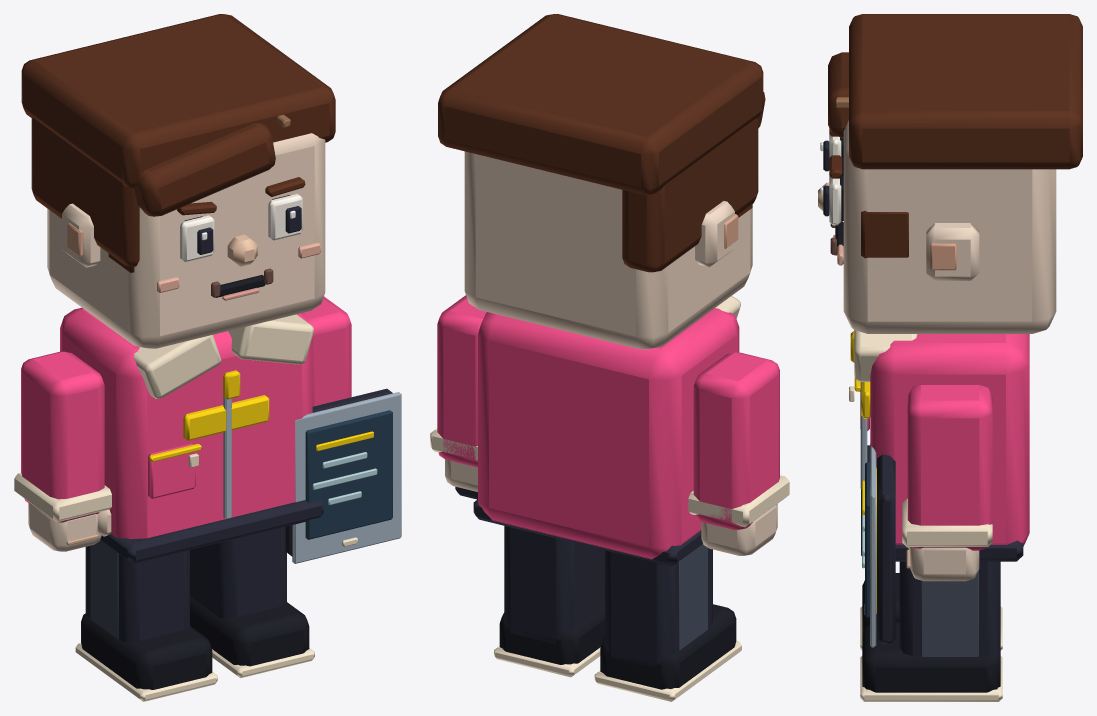
The model's file is recruiter.glb.
3 views of the same model, side by side, from view 1: azimuth 30°, elevation 25°; view 2: azimuth 150°, elevation 25°; view 3: azimuth 270°, elevation 25° (orthographic). The views are drawn at different scales.
Visible parts, largest first — view 1: Batch_Head_CITY / #5a2d1a, Batch_Body_CITY / #ff4d8d, Batch_Head_CITY / #f1d9c5, Arm_L_sleeve, Batch_Arm_R_CITY / #253d51, Leg_R_trouser, Batch_Body_CITY / cream, Leg_L_trouser, Batch_Arm_R_CITY / metal, Leg_L_shoe, Leg_R_shoe, Batch_Body_CITY / charcoal (+13 smaller); view 2: Batch_Head_CITY / #5a2d1a, Batch_Body_CITY / #ff4d8d, Batch_Head_CITY / #f1d9c5, Arm_L_sleeve, Leg_R_trouser, Leg_L_trouser, Arm_R_sleeve, Leg_L_shoe, Leg_R_shoe, Batch_Leg_L_CITY / #475061, Arm_L_hand, Batch_Arm_L_CITY / cream (+5 smaller); view 3: Batch_Head_CITY / #5a2d1a, Batch_Head_CITY / #f1d9c5, Batch_Body_CITY / #ff4d8d, Arm_R_sleeve, Leg_R_shoe, Batch_Leg_R_CITY / #475061, Leg_R_trouser, Batch_Arm_R_CITY / charcoal, Arm_R_hand, Batch_Arm_R_CITY / cream, Batch_Leg_R_CITY / cream, Batch_Body_CITY / cream (+9 smaller).
Boxes of the visible parts, x1=… form: Batch_Head_CITY / #5a2d1a: x1=21, y1=14, x2=335, y2=272; Batch_Body_CITY / #ff4d8d: x1=60, y1=307, x2=312, y2=539; Batch_Head_CITY / #f1d9c5: x1=47, y1=133, x2=325, y2=348; Arm_L_sleeve: x1=21, y1=351, x2=104, y2=522; Batch_Arm_R_CITY / #253d51: x1=305, y1=410, x2=392, y2=539; Leg_R_trouser: x1=190, y1=527, x2=286, y2=618; Batch_Body_CITY / cream: x1=133, y1=314, x2=313, y2=467; Leg_L_trouser: x1=85, y1=546, x2=189, y2=642; Batch_Arm_R_CITY / metal: x1=292, y1=392, x2=401, y2=563; Leg_L_shoe: x1=81, y1=613, x2=212, y2=689; Leg_R_shoe: x1=190, y1=596, x2=309, y2=666; Batch_Body_CITY / charcoal: x1=100, y1=500, x2=323, y2=563; Batch_Head_CITY / #5a2d1a: x1=438, y1=14, x2=765, y2=272; Batch_Body_CITY / #ff4d8d: x1=478, y1=308, x2=739, y2=559; Batch_Head_CITY / #f1d9c5: x1=464, y1=151, x2=752, y2=349; Arm_L_sleeve: x1=693, y1=352, x2=779, y2=529; Leg_R_trouser: x1=504, y1=526, x2=604, y2=643; Leg_L_trouser: x1=605, y1=548, x2=712, y2=668; Arm_R_sleeve: x1=437, y1=295, x2=486, y2=467; Leg_L_shoe: x1=600, y1=604, x2=736, y2=689; Leg_R_shoe: x1=499, y1=606, x2=604, y2=664; Batch_Leg_L_CITY / #475061: x1=679, y1=544, x2=707, y2=649; Arm_L_hand: x1=701, y1=504, x2=777, y2=555; Batch_Arm_L_CITY / cream: x1=688, y1=475, x2=789, y2=527; Batch_Head_CITY / #5a2d1a: x1=828, y1=14, x2=1082, y2=258; Batch_Head_CITY / #f1d9c5: x1=843, y1=120, x2=1056, y2=333; Batch_Body_CITY / #ff4d8d: x1=860, y1=334, x2=1029, y2=546; Arm_R_sleeve: x1=907, y1=384, x2=992, y2=550; Leg_R_shoe: x1=862, y1=622, x2=1000, y2=692; Batch_Leg_R_CITY / #475061: x1=921, y1=570, x2=978, y2=656; Leg_R_trouser: x1=899, y1=561, x2=1000, y2=659; Batch_Arm_R_CITY / charcoal: x1=877, y1=454, x2=895, y2=643; Arm_R_hand: x1=910, y1=547, x2=979, y2=581; Batch_Arm_R_CITY / cream: x1=864, y1=498, x2=992, y2=614; Batch_Leg_R_CITY / cream: x1=860, y1=656, x2=1002, y2=701; Batch_Body_CITY / cream: x1=849, y1=330, x2=917, y2=401.
Bounding box in the file's own units: 0.751 × 1.24 × 0.4985.
